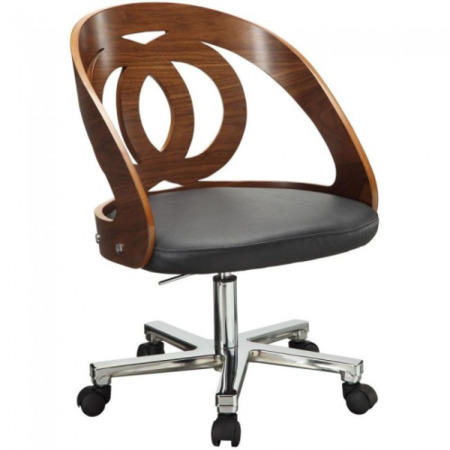chairs: (66, 1, 382, 450)
